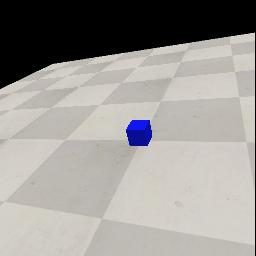box: (126, 120, 152, 146)
